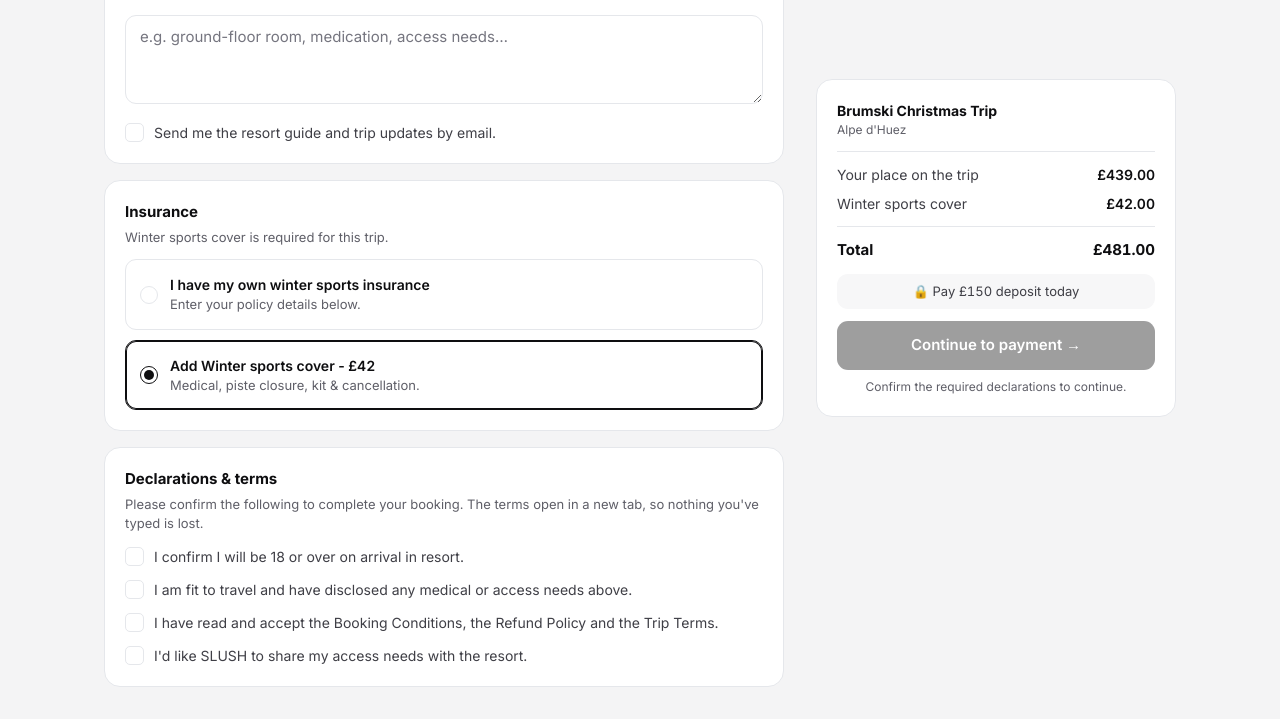
Test: DetailsForm: the declarations gate › keeps submit disabled, with a reason, until all three are ticked
(page scrolled)
expect the button "Continue to payment →" is disabled: met, box [837,321,1155,370]
expect the text "Confirm the required declarations to continue." is shown: met, box [866,378,1126,394]
What coordinates should you click on to do the following:
click the checkbox labelled "I confirm I will be 18 or over on arrival in resort."
I would click on:
 (294, 556)
Its box is [125,547,464,566].
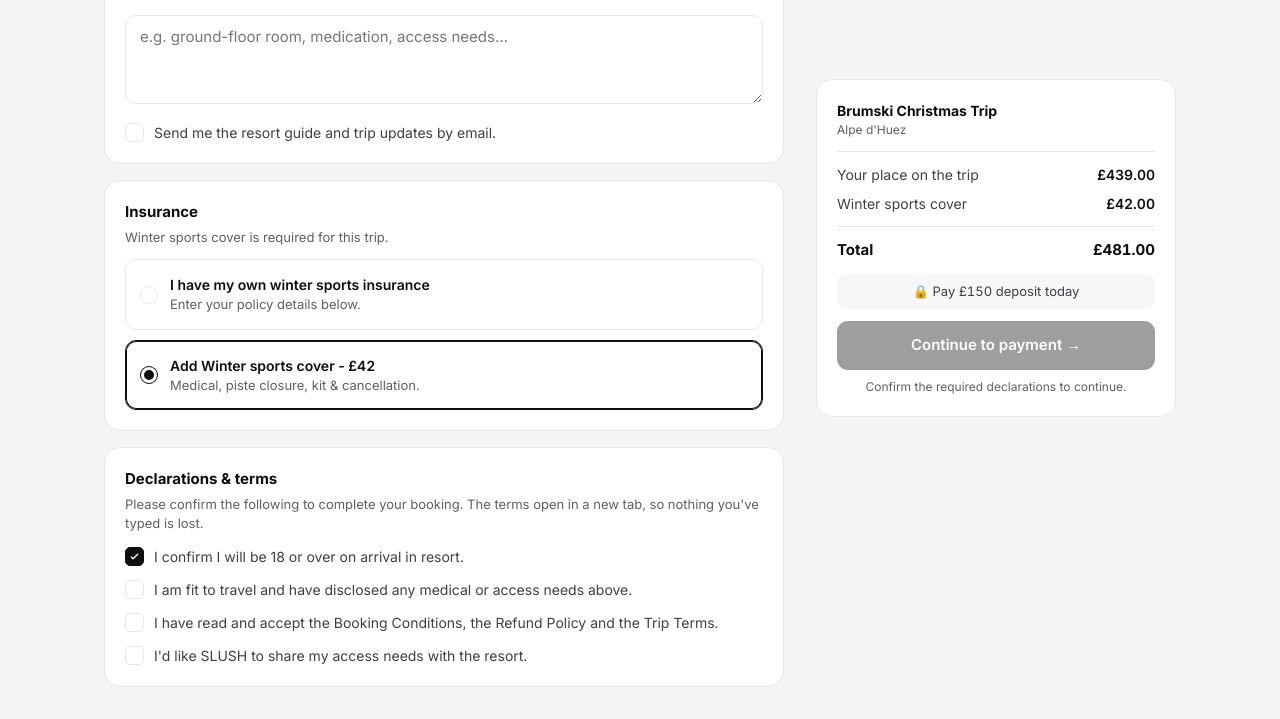
What coordinates should you click on to do the following:
click the 3rd checkbox
I would click on:
 (379, 589)
Its box is [125,580,632,599].
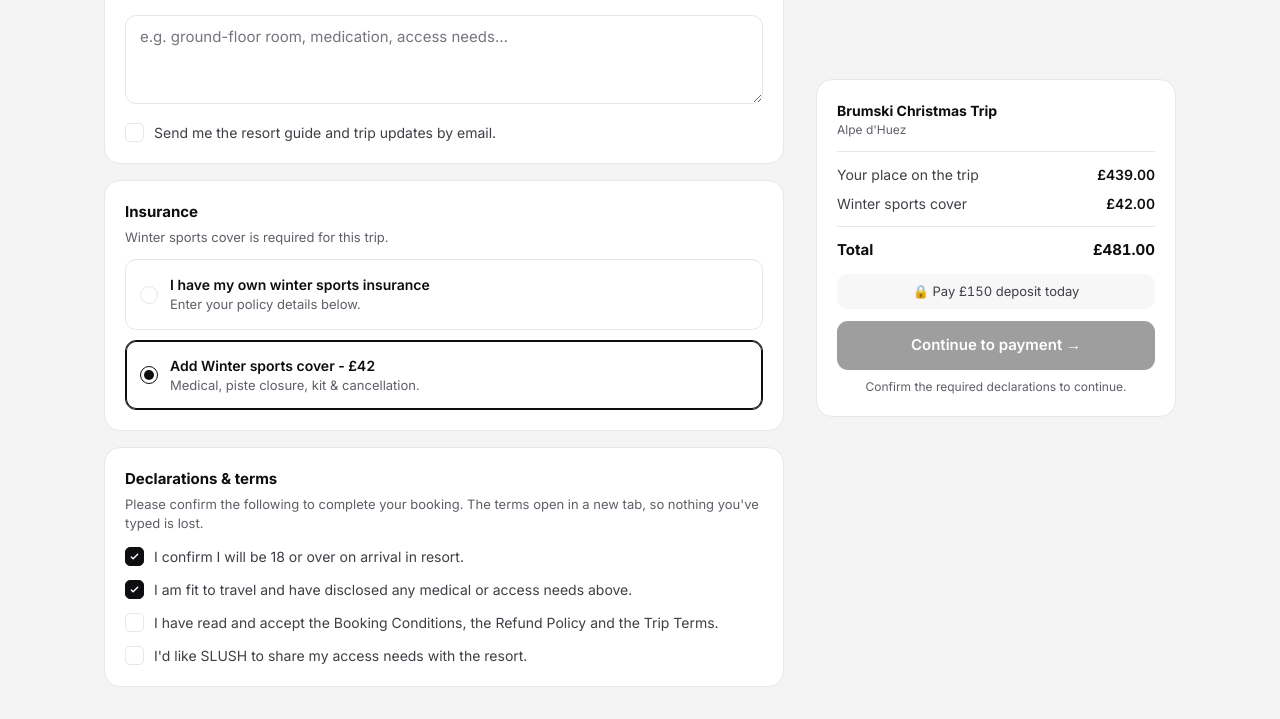
expect the button "Continue to payment →" is disabled: met, box [837,321,1155,370]
What coordinates should you click on to do the following:
click the checkbox that starts with "I have read and accept the"
I would click on:
 (444, 622)
Its box is [125,612,763,633].
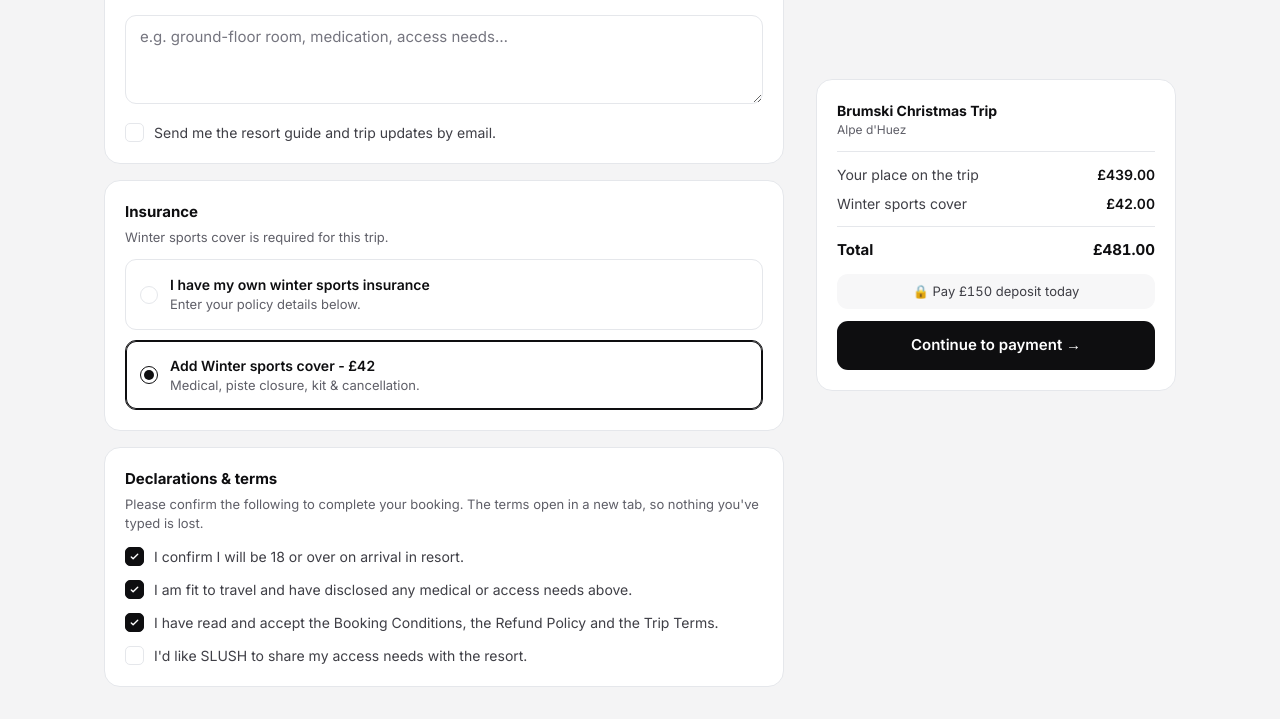
expect the button "Continue to payment →" is enabled: met, box [837,321,1155,370]
expect the text "Confirm the required declarations" is gone: met
